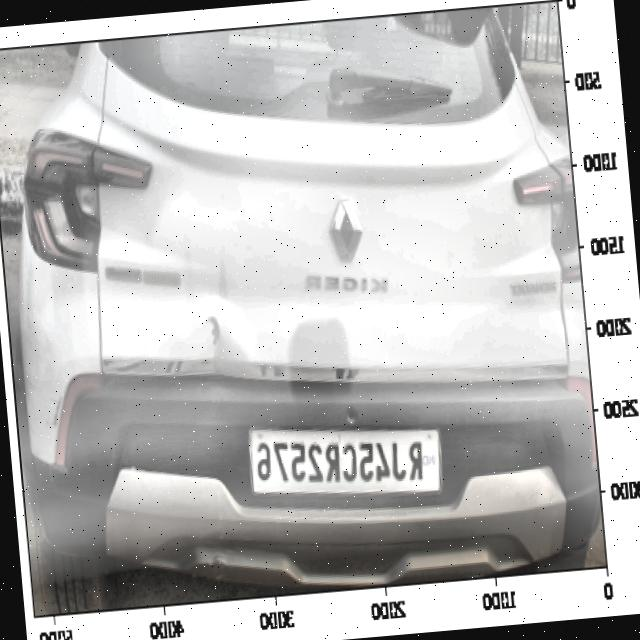license_plate: (249, 422, 428, 496)
